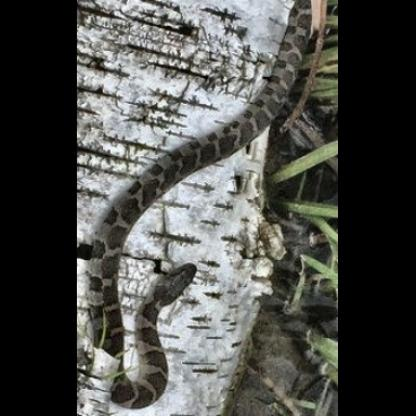Snake: (98, 0, 302, 295)
